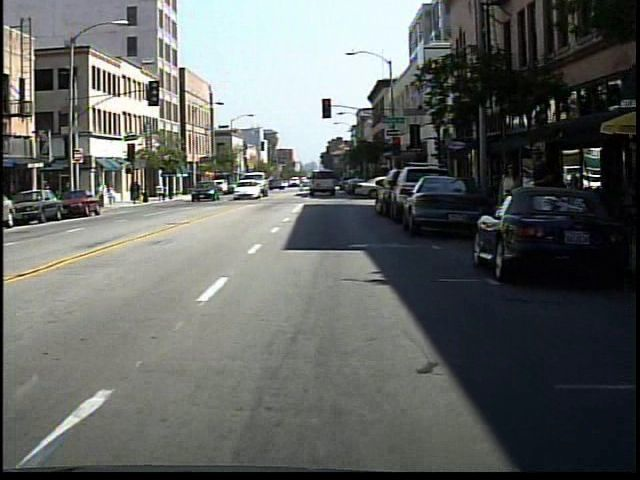person: (521, 142, 556, 254), (496, 155, 523, 252), (94, 180, 109, 207), (109, 184, 122, 211)
